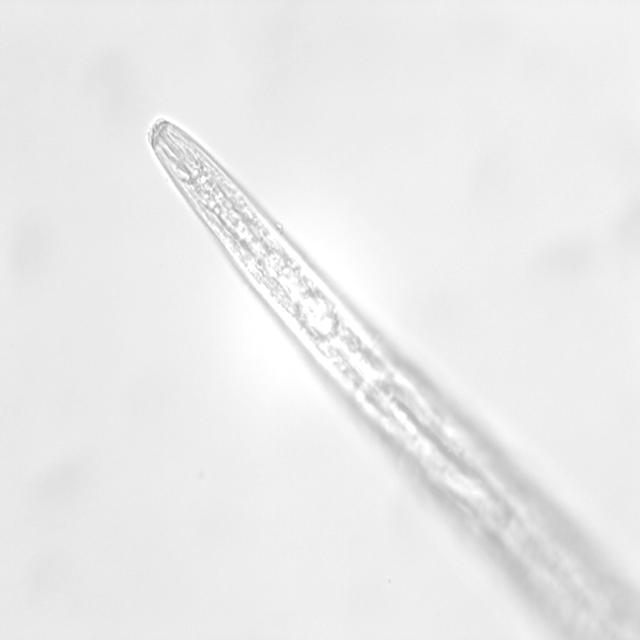Pratylenchus: (147, 103, 360, 404)
